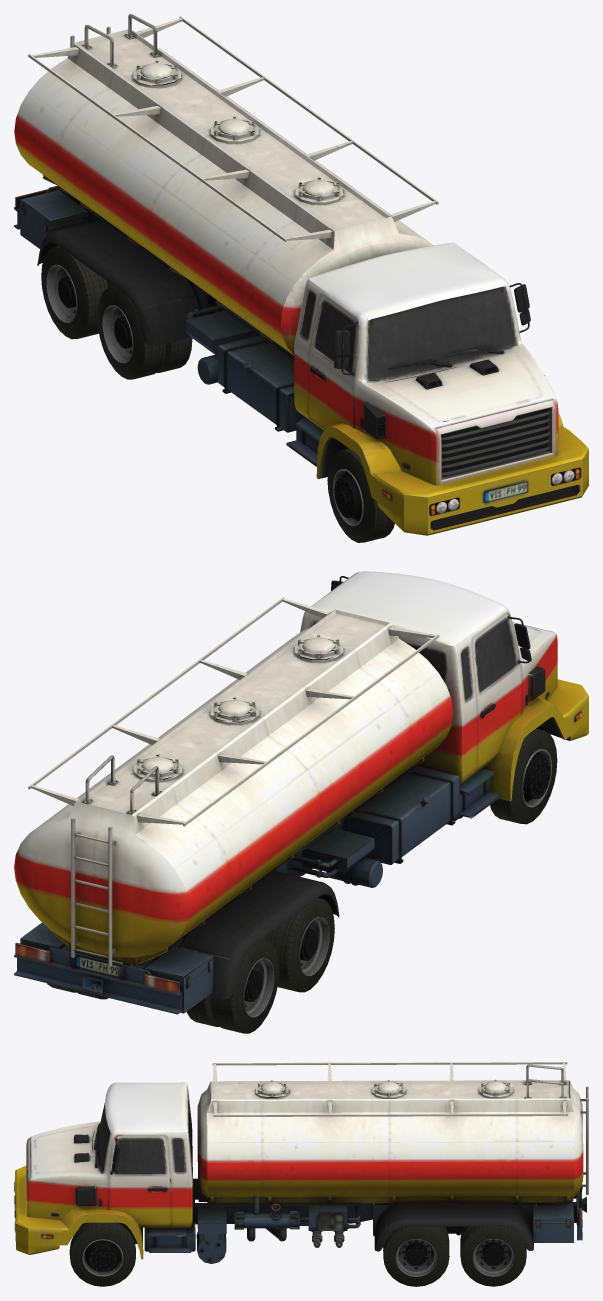
File: fuel.glb
3 views of the same model, one above another, from view 1: azimuth 30°, elevation 25°; view 2: azimuth 150°, elevation 25°; view 3: azimuth 270°, elevation 25° (orthographic). The views are drawn at different scales.
Parts seen in each view (by area): view 1: vehicle; view 2: vehicle; view 3: vehicle.
Boxes of the visible parts, x1,y1,x2,y2 form: vehicle: (14, 14, 588, 542); vehicle: (14, 571, 588, 1033); vehicle: (14, 1062, 588, 1286).
Size of the model in its own units: 2.04 by 2.53 by 7.19.
12 materials, 12 textured.
